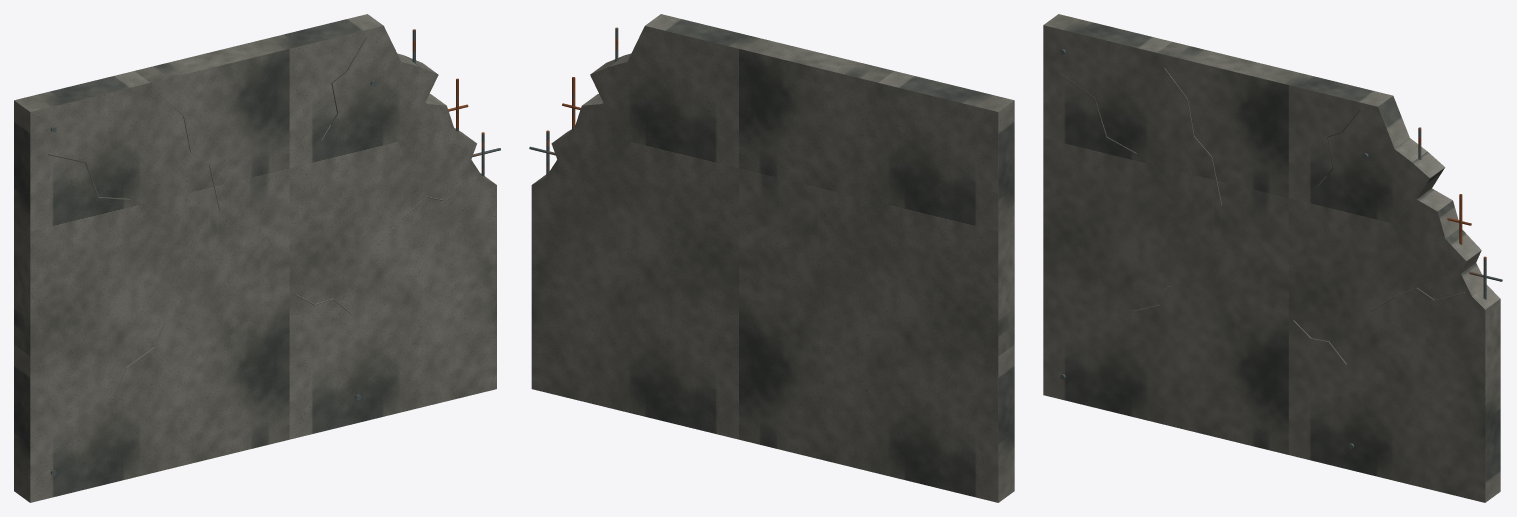
File: damaged_wall_4m_v02.glb
3 views of the same model, side by side, from view 1: azimuth 30°, elevation 25°; view 2: azimuth 150°, elevation 25°; view 3: azimuth 330°, elevation 25° (orthographic). The views are drawn at different scales.
Parts seen in each view (by area): view 1: DamagedConcreteStructuralCore; view 2: DamagedConcreteStructuralCore; view 3: DamagedConcreteStructuralCore.
Boxes of the visible parts, x1,y1,x2,y2 form: DamagedConcreteStructuralCore: [14, 14, 496, 502]; DamagedConcreteStructuralCore: [531, 14, 1014, 502]; DamagedConcreteStructuralCore: [1043, 14, 1500, 502].
Size of the model in its own units: 4.09 by 3.2 by 0.269.
2 materials, 2 textured.
